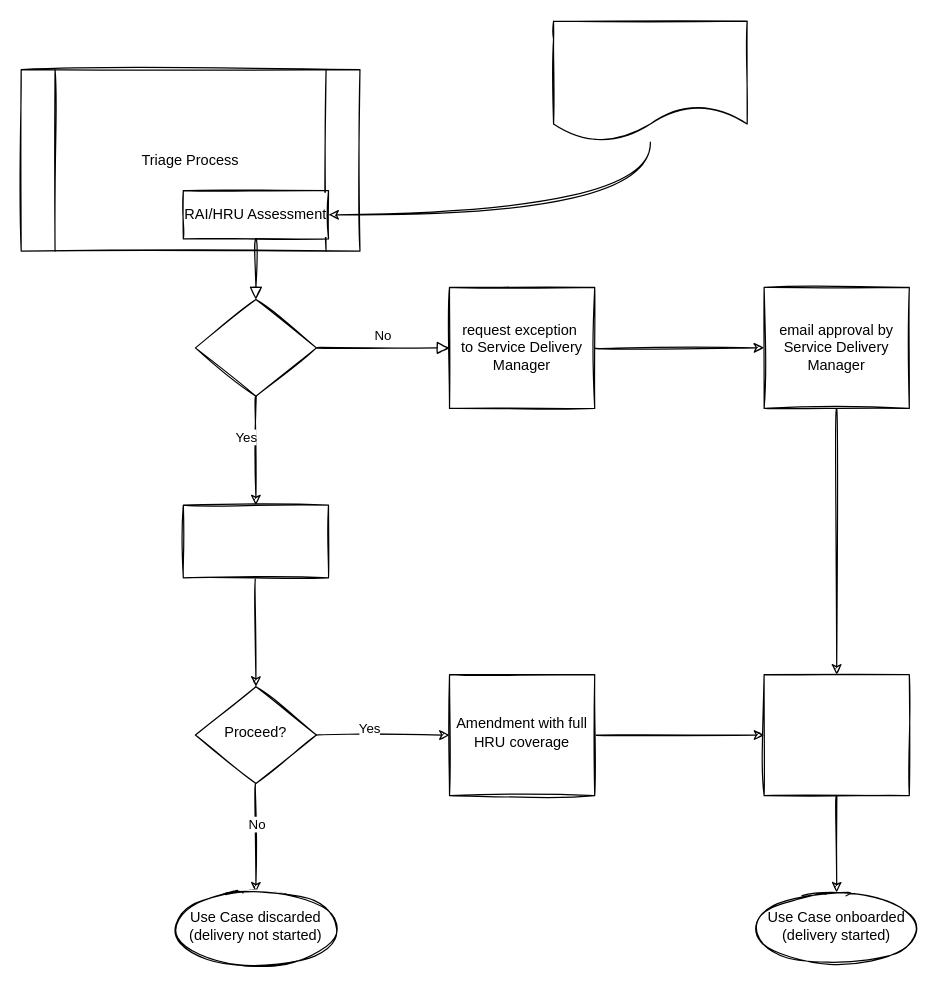
The diagram is 943 pixels wide and 986 high, and some of its shapes have lost their labels. The shapes that lost their labels are listed below. From the top down, each one's centre as x and y in pixels, then its label:
At pixel 649 81: "Executed by Program Architect with TQA & ORA".
At pixel 255 347: "HRU Risk?".
At pixel 255 541: "SteerCo decision to proceed".
At pixel 836 734: "archive document for Track Record".
